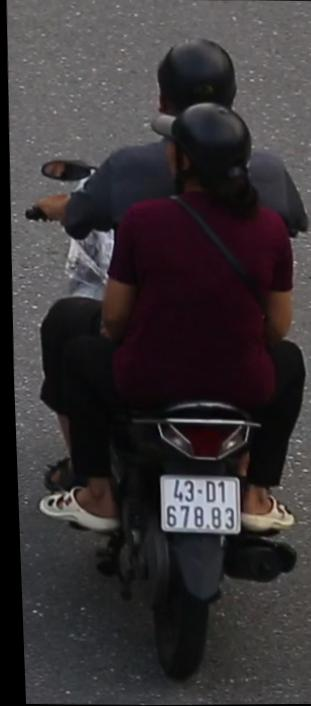LP: (147, 468, 244, 549)
helmet: (146, 100, 255, 185), (150, 36, 241, 111)
